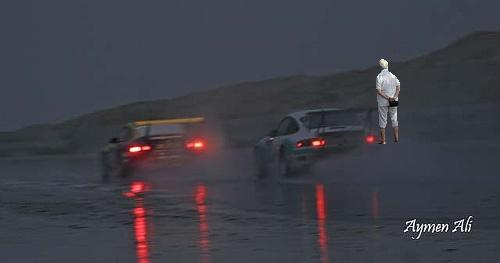tampered: (377, 60, 400, 144)
